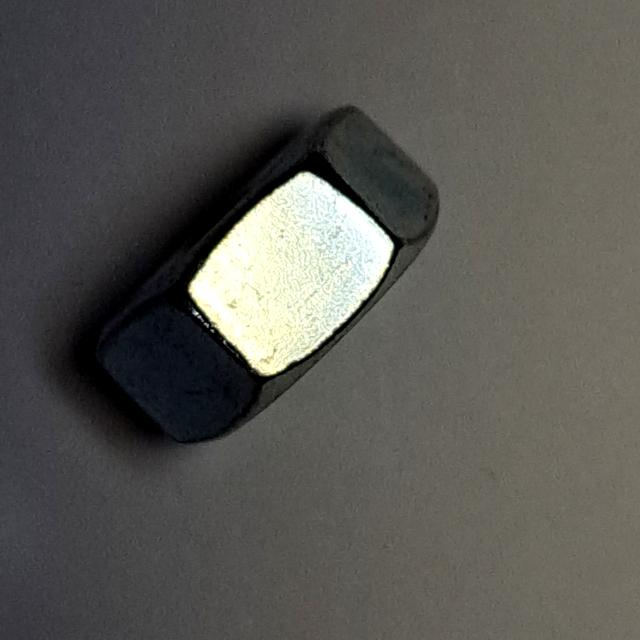Side_Excellent: (68, 87, 460, 457)
